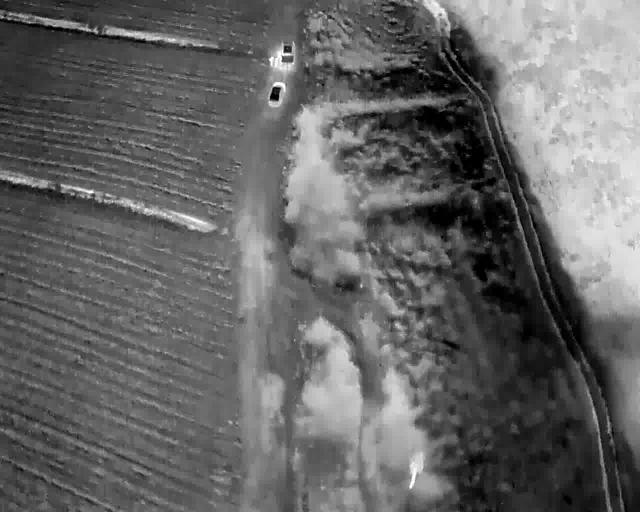car: (268, 79, 284, 108), (281, 39, 295, 65)
person: (275, 50, 282, 63), (268, 55, 274, 67), (273, 57, 279, 68)
